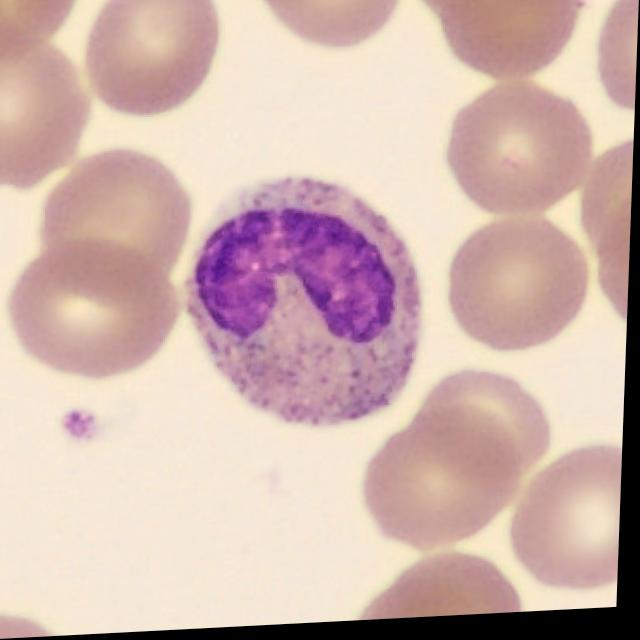Bastonete: (185, 179, 425, 429)
